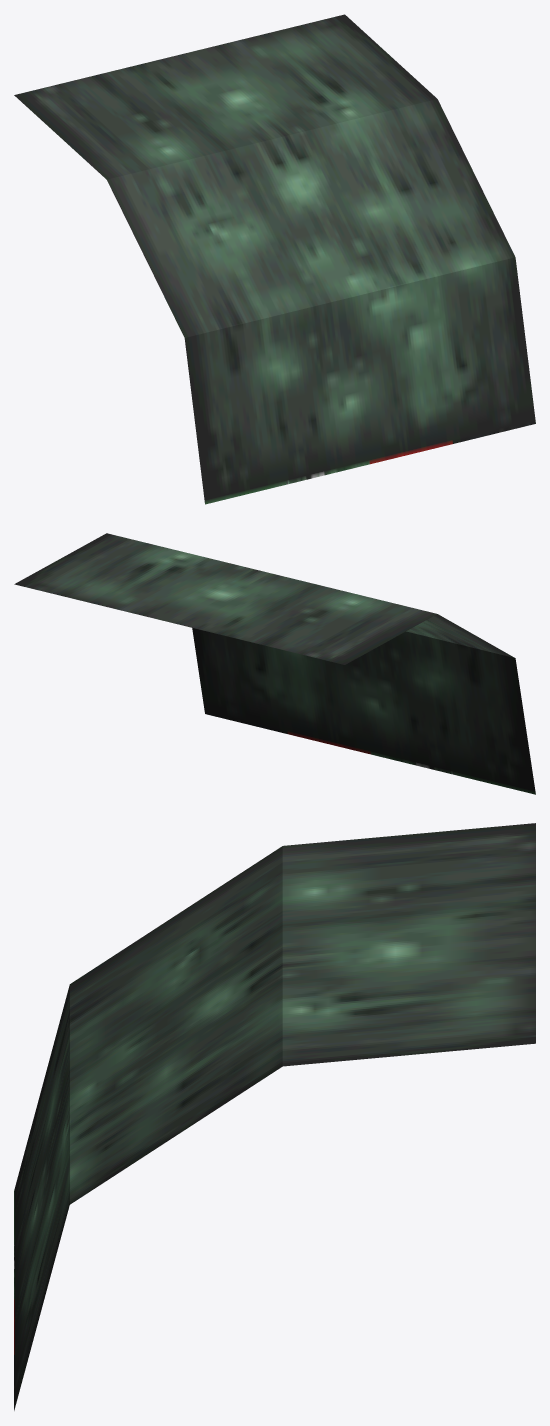
File: Dach_Halbtonne [Türkis]_128.glb
3 renders of one model, top to bottom at view 1: azimuth 30°, elevation 25°; view 2: azimuth 150°, elevation 25°; view 3: azimuth 270°, elevation 25°, orthographic. The views are drawn at different scales.
Visible parts, largest first — view 1: polySurfaceShape1072; view 2: polySurfaceShape1072; view 3: polySurfaceShape1072.
Part boxes in pixels (x1,y1,x2,y2): polySurfaceShape1072: (14,14,535,504); polySurfaceShape1072: (14,533,535,794); polySurfaceShape1072: (14,823,535,1410).
Bounding box in the file's own units: 0.5 × 0.3891 × 0.5.
1 material, 1 textured.
